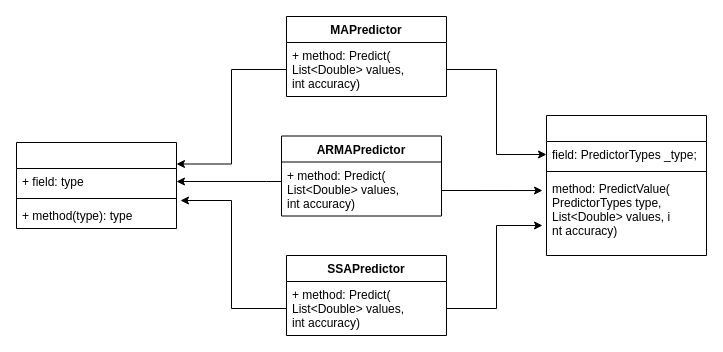
The diagram is 723 pixels wide and 352 high, and some of its shapes have lost their labels. The shapes that lost their labels are listed below. From the top down, each one's box as (x1, y1, x2, y2) in pixels, then its label:
(16, 142, 176, 228): PredictedValue
(546, 114, 706, 256): PredictorFactory
